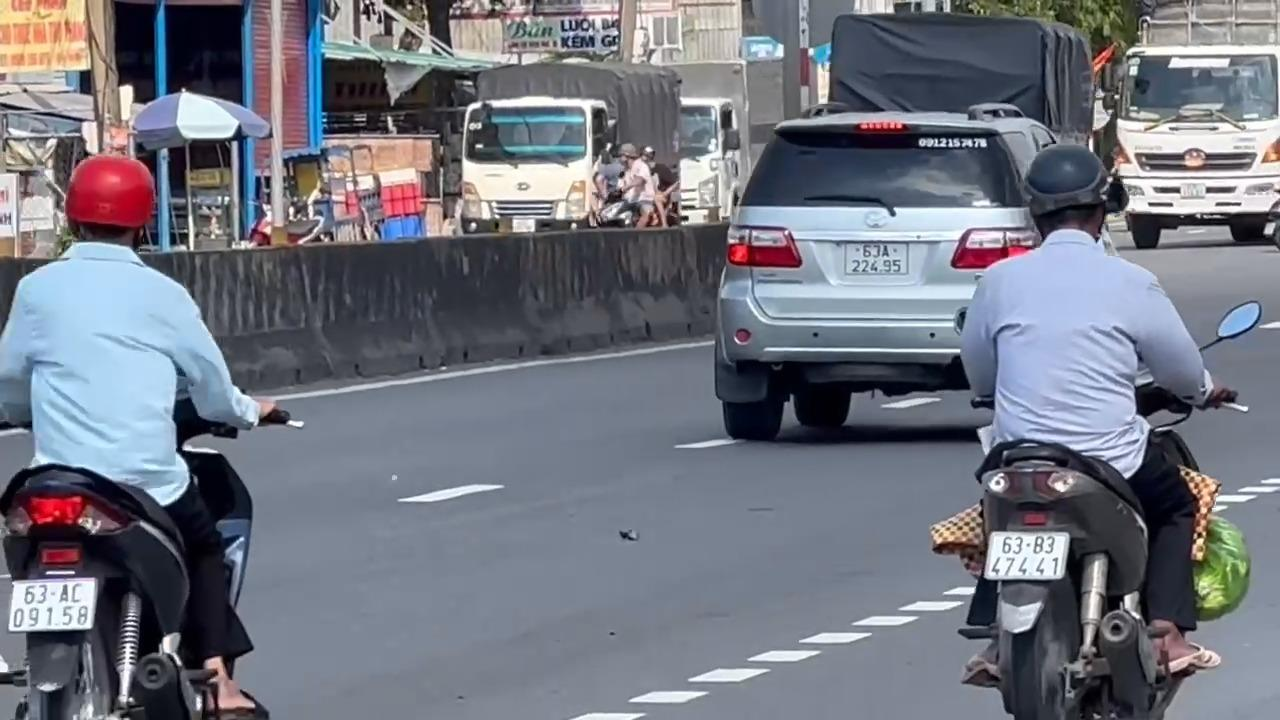bien_so: (7, 575, 98, 632), (983, 529, 1070, 581), (840, 241, 909, 277)
